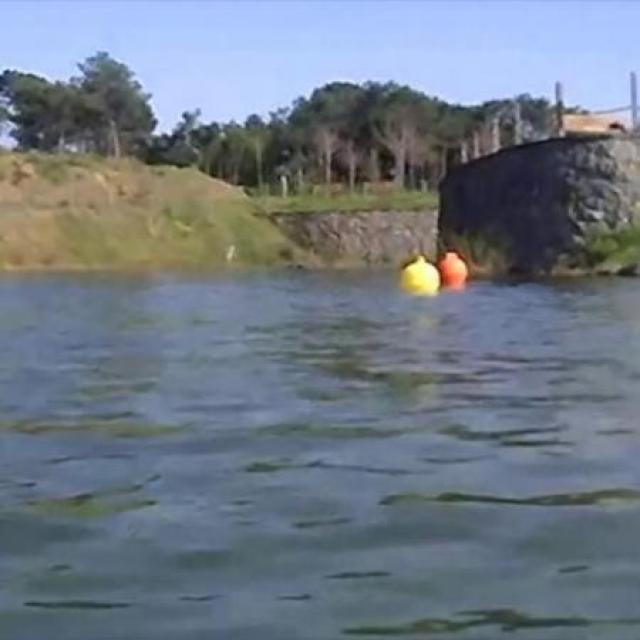buoy: (398, 253, 438, 293), (441, 251, 468, 288)
